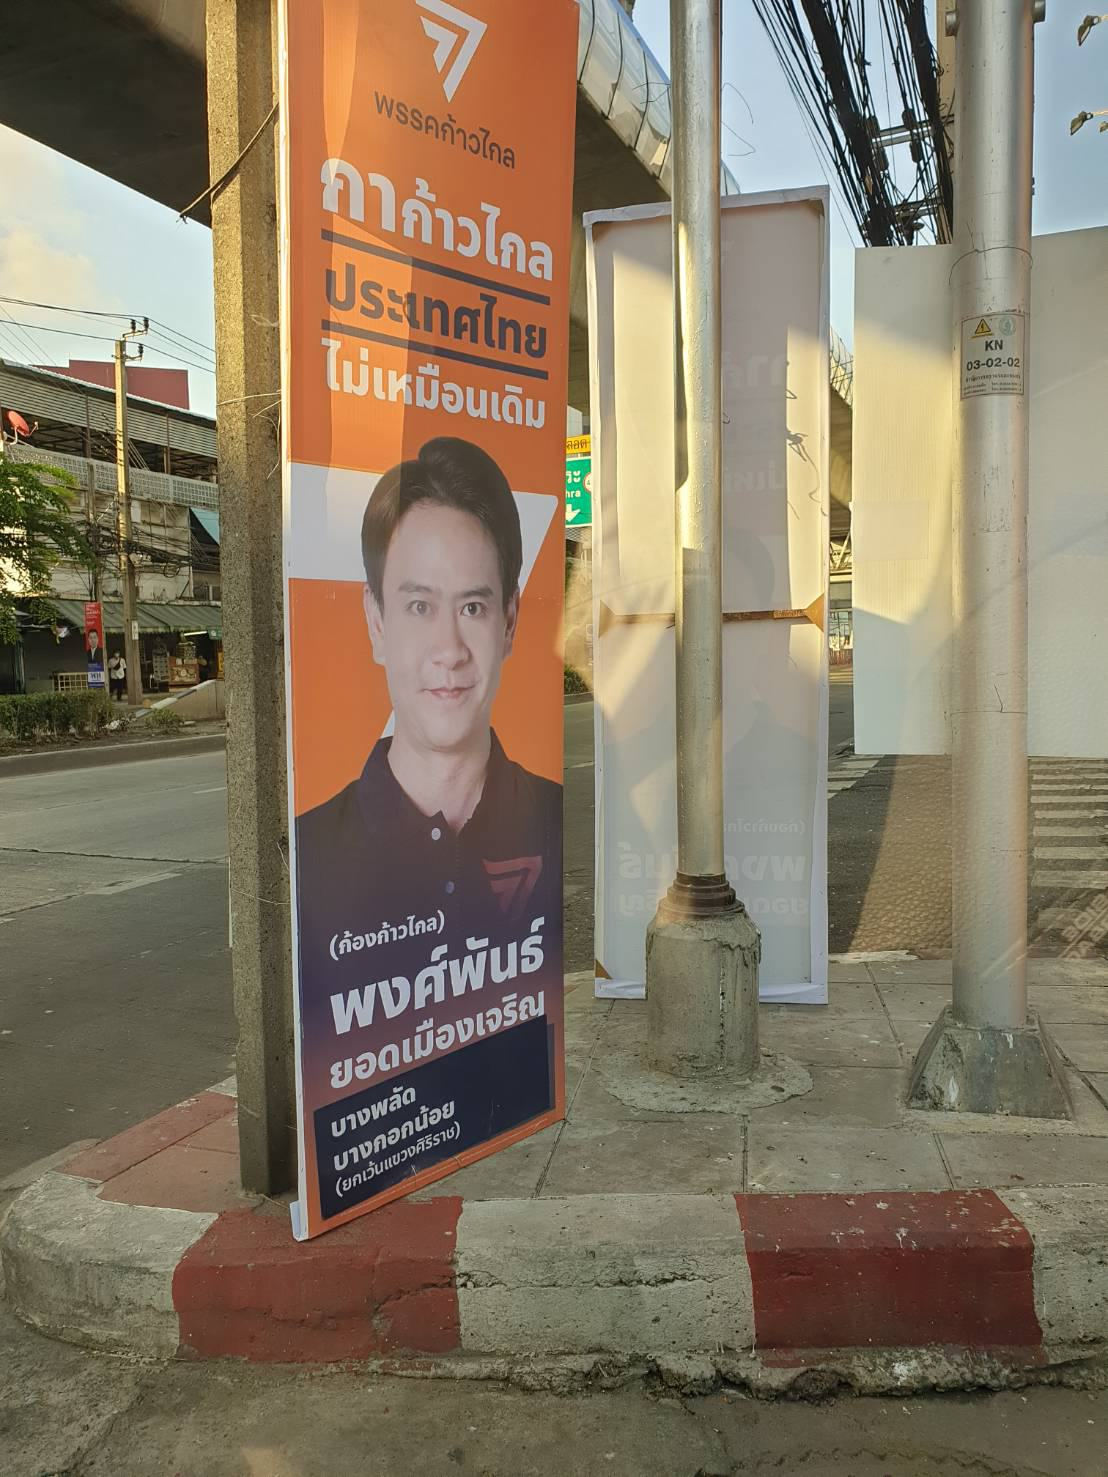Banner: (261, 3, 612, 1237)
